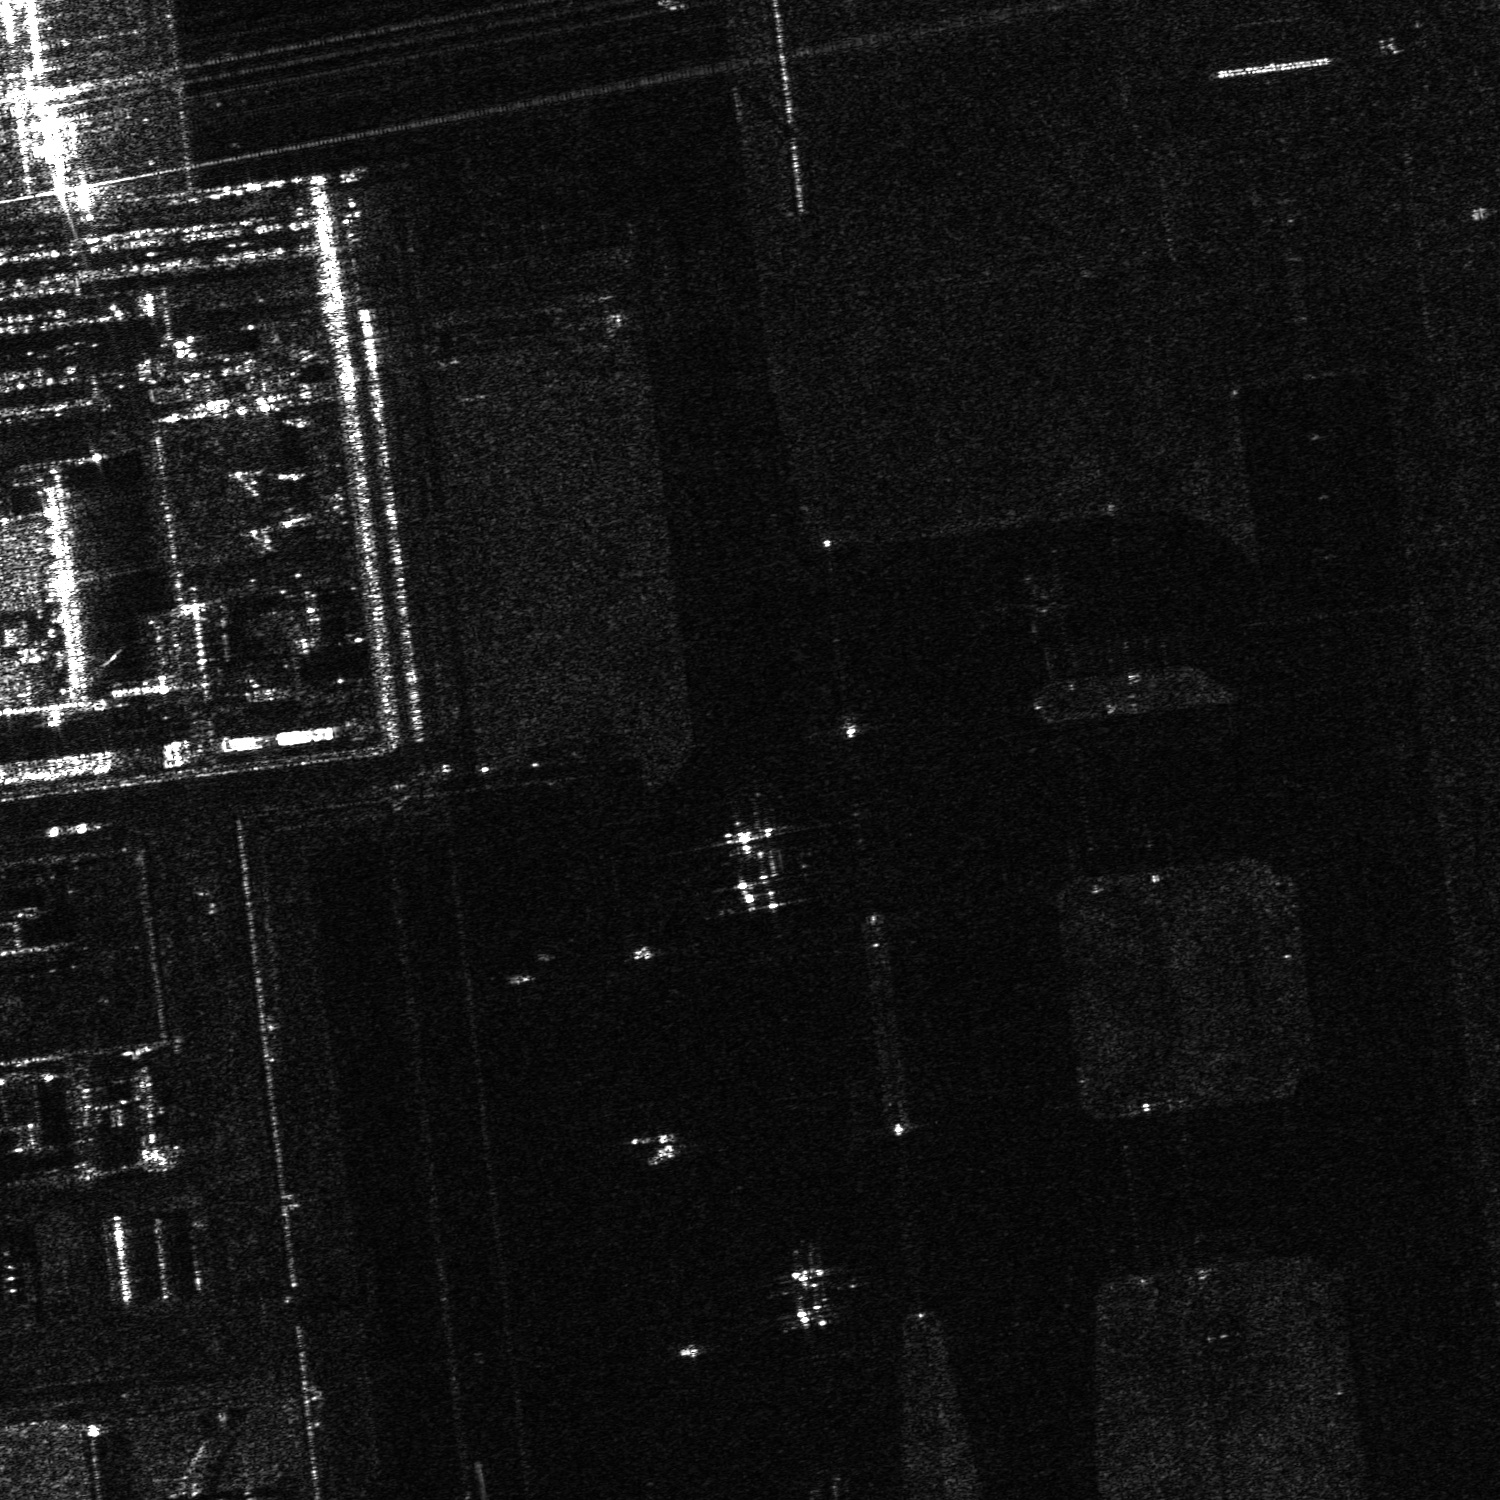Boeing787: (760, 1236, 859, 1334)
other: (680, 802, 815, 922)
